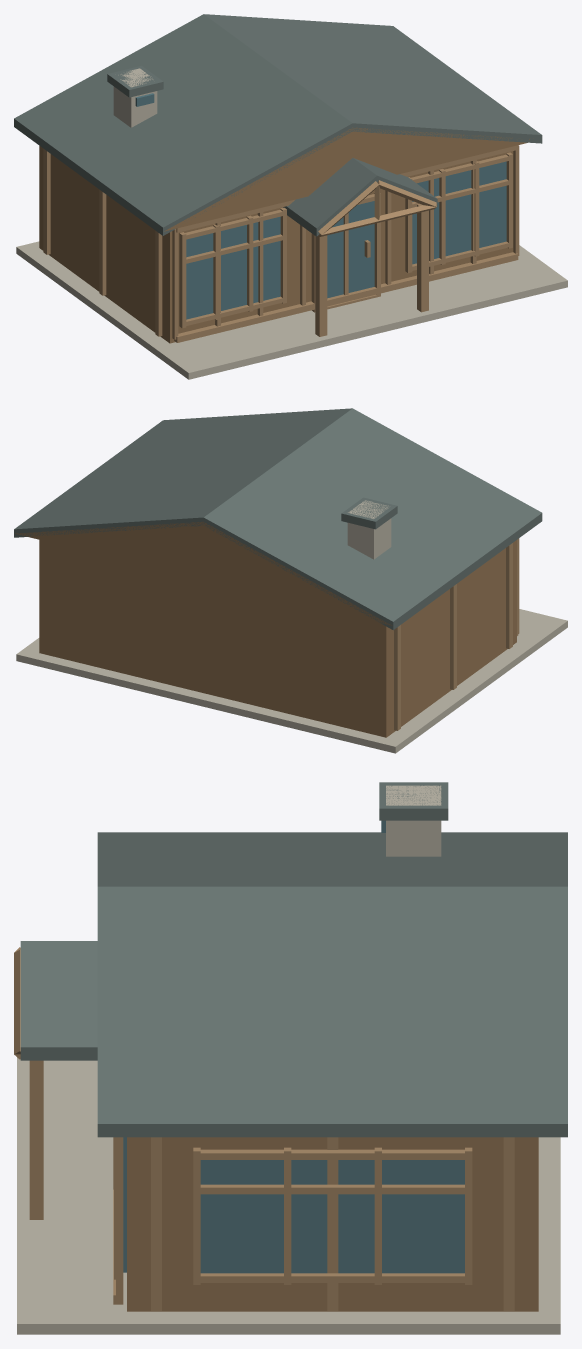
The model's file is pro_shop_01.glb.
The picture shows the model from 3 angles, top to bottom: view 1: azimuth 30°, elevation 25°; view 2: azimuth 150°, elevation 25°; view 3: azimuth 270°, elevation 25°; orthographic projection. The views are drawn at different scales.
Visible parts, largest first — view 1: Pro_shop_01; view 2: Pro_shop_01; view 3: Pro_shop_01.
Boxes of the visible parts, <box> form: Pro_shop_01: <box>14,14,567,379</box>; Pro_shop_01: <box>14,408,567,753</box>; Pro_shop_01: <box>14,782,567,1334</box>.
Bounding box in the file's own units: 9.4 × 4.55 × 7.54.
